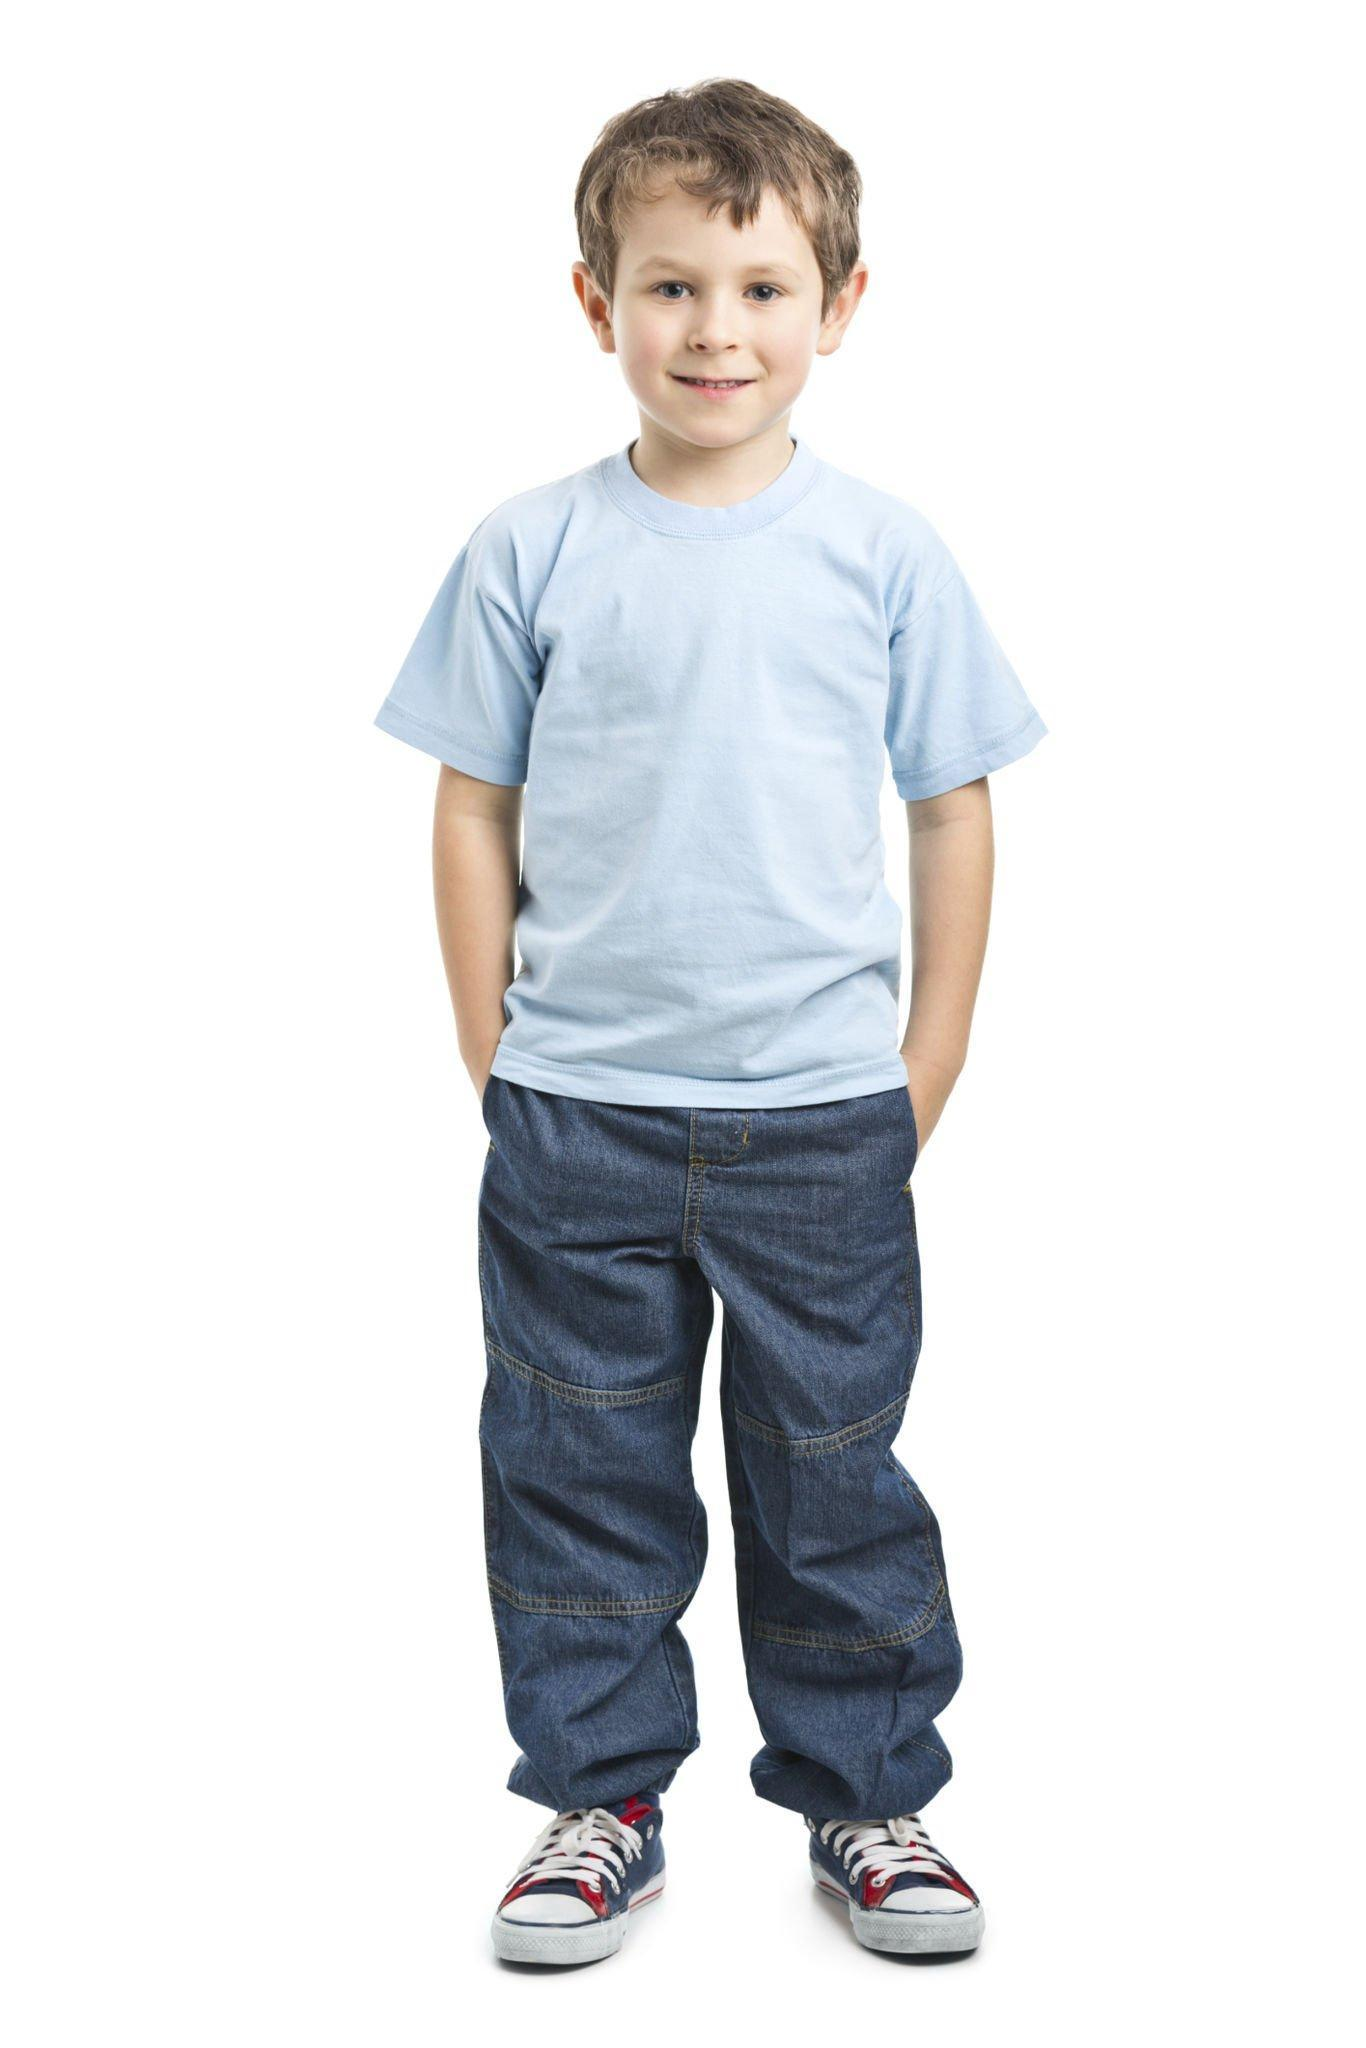Healthy: (526, 41, 896, 518)
